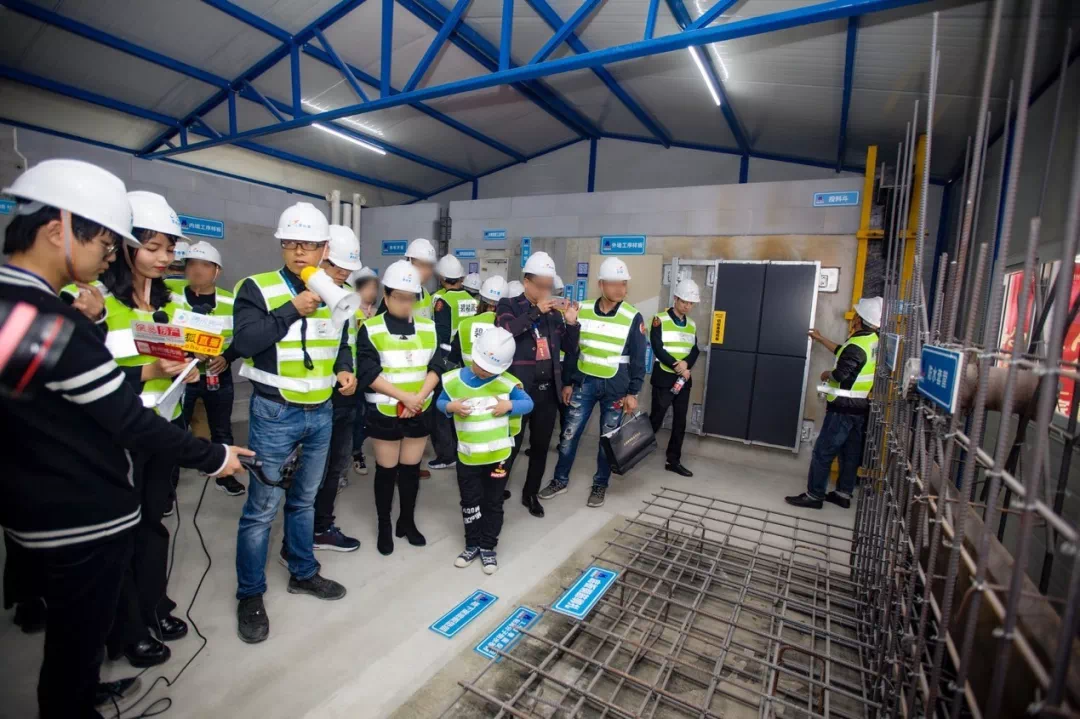ordinary_clothes: (1, 266, 144, 553), (497, 297, 567, 405)
person: (1, 159, 261, 719), (230, 200, 359, 646), (354, 259, 451, 558), (538, 252, 647, 508), (433, 324, 535, 579), (493, 248, 582, 520), (782, 294, 886, 512), (159, 241, 235, 519), (647, 274, 703, 479)
reflective_vest: (58, 278, 186, 424), (232, 270, 346, 408), (361, 309, 440, 418), (442, 367, 525, 467), (160, 275, 236, 379), (575, 297, 643, 381), (815, 332, 879, 404), (653, 309, 697, 375)
safety_helmet: (1, 156, 143, 291), (125, 190, 185, 281), (273, 200, 332, 277), (321, 224, 364, 288), (470, 325, 518, 382), (380, 259, 423, 320), (180, 240, 224, 294), (519, 249, 558, 303), (596, 253, 632, 303), (403, 236, 438, 285), (478, 272, 510, 313), (849, 295, 884, 331), (433, 252, 466, 290), (672, 276, 702, 317), (355, 264, 380, 306), (461, 271, 484, 292)
